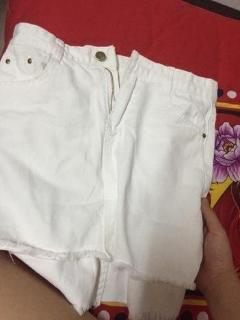skirt: (0, 22, 218, 319)
